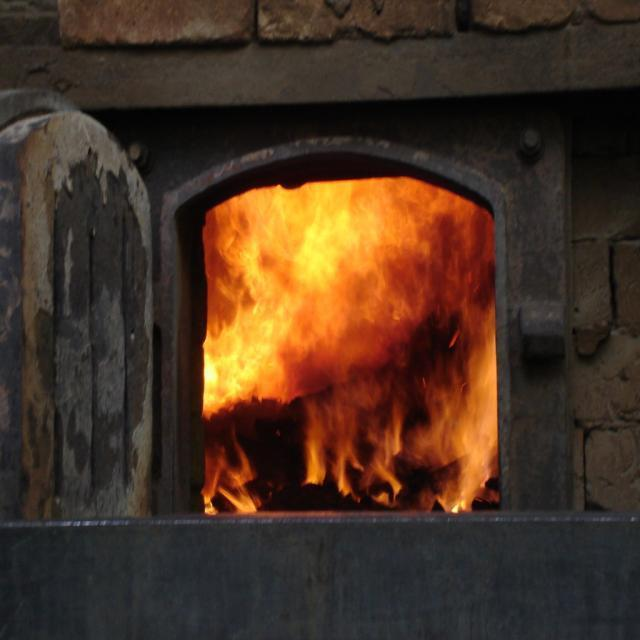Fire: (228, 218, 486, 520)
